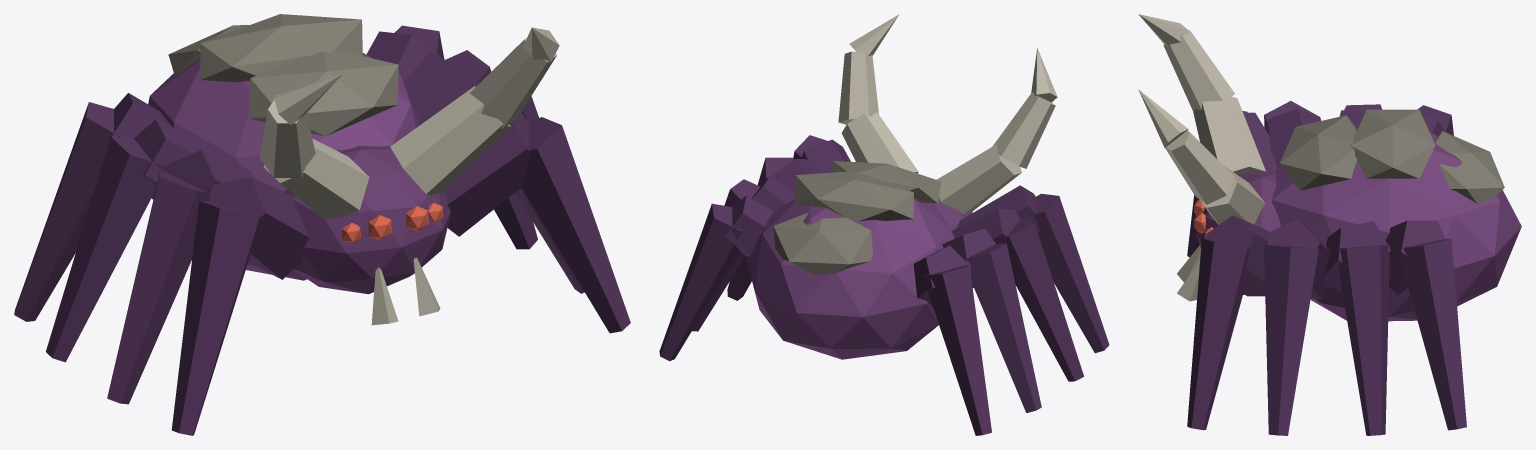
The model's file is enemy_brute.glb.
3 renders of one model, left to right at view 1: azimuth 30°, elevation 25°; view 2: azimuth 150°, elevation 25°; view 3: azimuth 270°, elevation 25°, orthographic. The views are drawn at different scales.
Parts seen in each view (by area): view 1: enemy_brute; view 2: enemy_brute; view 3: enemy_brute.
Boxes of the visible parts, x1,y1,x2,y2 form: enemy_brute: (14,14,630,435); enemy_brute: (659,14,1109,435); enemy_brute: (1138,14,1521,435).
Size of the model in its own units: 3.34 by 2.35 by 2.78.
